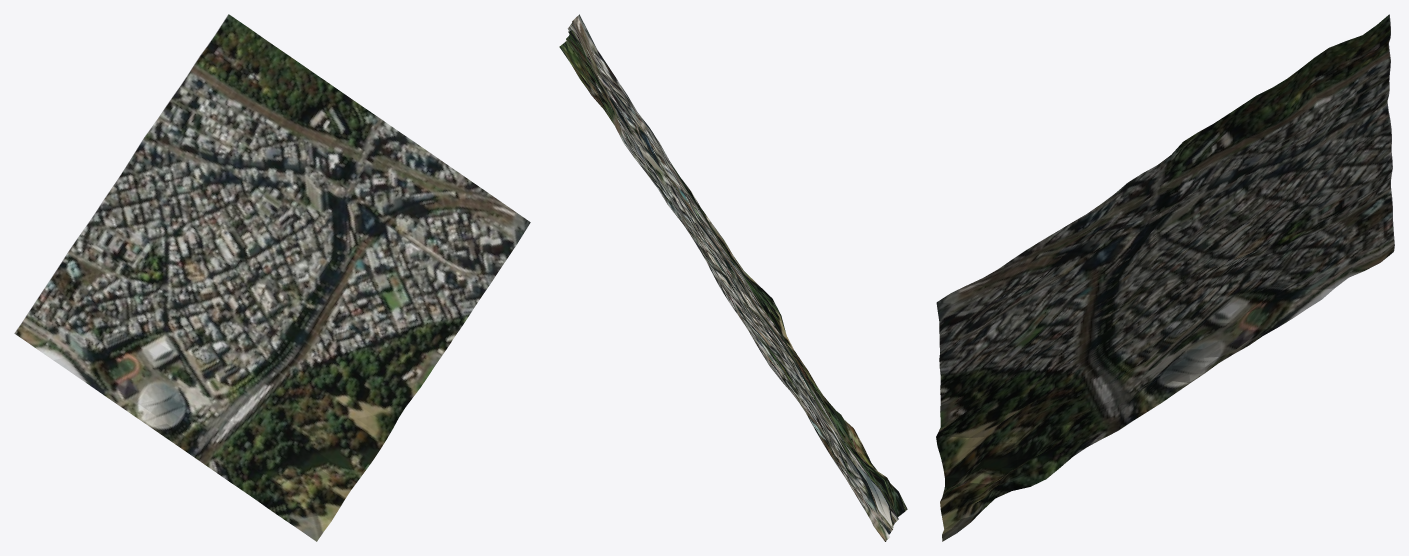
The picture shows the model from 3 angles, left to right: view 1: azimuth 30°, elevation 25°; view 2: azimuth 150°, elevation 25°; view 3: azimuth 270°, elevation 25°; orthographic projection. The views are drawn at different scales.
Size of the model in its own units: 1068 by 1135 by 821.
1 material, 1 textured.
